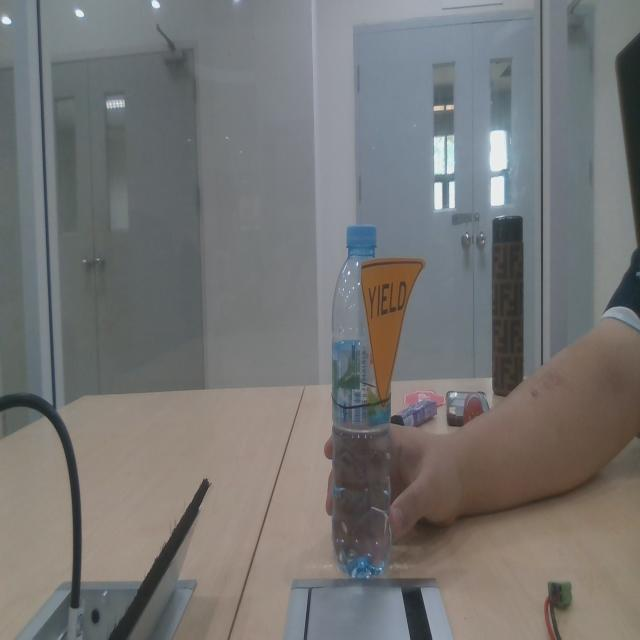Yield: (362, 252, 428, 424)
